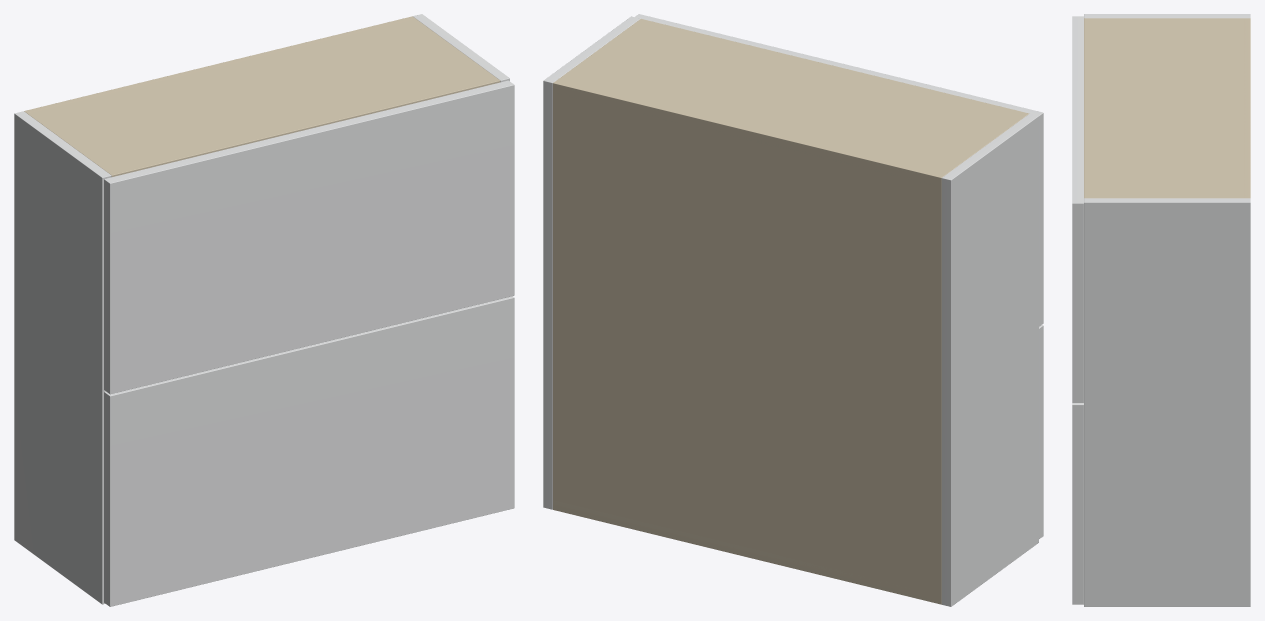
File: oppein-ply-pgw-wbf3030.glb
The picture shows the model from 3 angles, left to right: view 1: azimuth 30°, elevation 25°; view 2: azimuth 150°, elevation 25°; view 3: azimuth 270°, elevation 25°; orthographic projection. The views are drawn at different scales.
Parts seen in each view (by area): view 1: Door.001, Door, Cabinet side, Cabinet top, Cabinet back, Cabinet side.001; view 2: Cabinet back, Cabinet side, Cabinet top, Cabinet side.001, Cabinet bottom, Door.001, Door; view 3: Cabinet side.001, Cabinet top, Door.001, Door, Cabinet back, Cabinet side.
Boxes of the visible parts, x1,y1,x2,y2 form: Door.001: (104,80,514,394); Door: (104,296,514,606); Cabinet side: (14,111,111,604); Cabinet top: (24,16,500,176); Cabinet back: (25,16,415,113); Cabinet side.001: (413,14,509,82); Cabinet back: (553,80,944,604); Cabinet side: (941,113,1038,606); Cabinet top: (553,19,1029,186); Cabinet side.001: (543,16,640,509); Cabinet bottom: (553,500,941,604); Door.001: (635,14,1043,326); Door: (1039,325,1043,538); Cabinet side.001: (1084,198,1250,606); Cabinet top: (1084,18,1250,198); Door.001: (1072,16,1083,402); Door: (1072,403,1083,604); Cabinet back: (1244,18,1250,198); Cabinet side: (1084,14,1250,18).
Size of the model in its own units: 0.762 by 0.762 by 0.3048.
